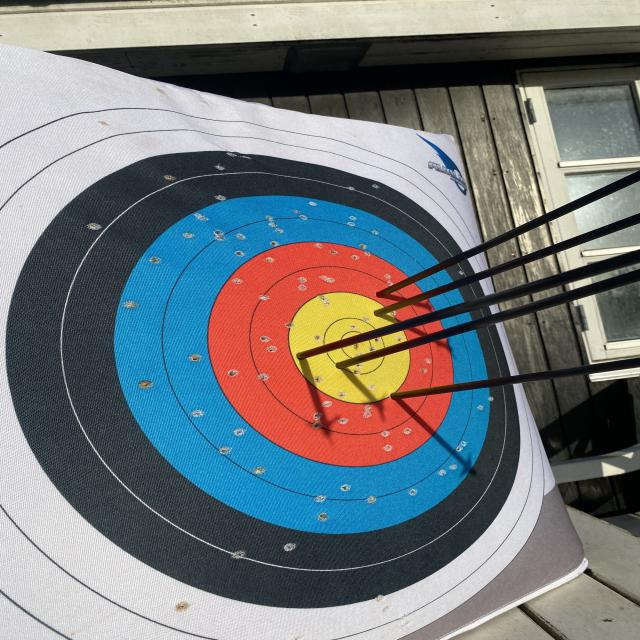Arrow_Red: (382, 383, 415, 407), (370, 283, 390, 304)
Arrow_Yellow: (278, 344, 323, 371), (332, 355, 354, 381), (366, 303, 393, 323)
